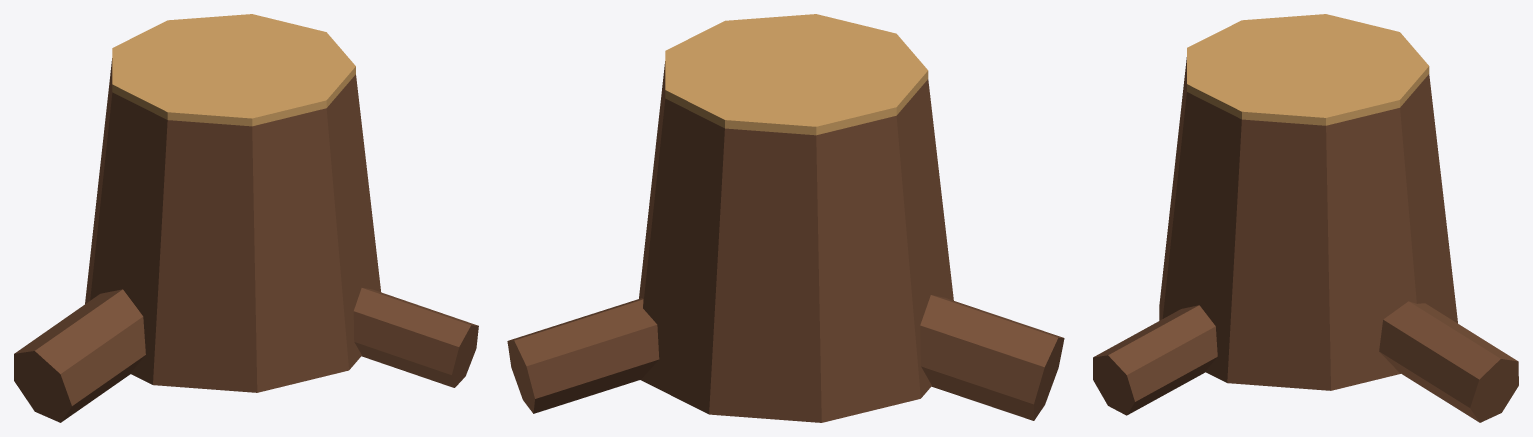
File: stump_a.glb
The picture shows the model from 3 angles, left to right: view 1: azimuth 30°, elevation 25°; view 2: azimuth 150°, elevation 25°; view 3: azimuth 270°, elevation 25°; orthographic projection. The views are drawn at different scales.
Visible parts, largest first — view 1: Stump, Cut, Root_A, Root_C; view 2: Stump, Cut, Root_A, Root_B; view 3: Stump, Cut, Root_B, Root_C.
Part boxes in pixels (<box>): Stump: <box>85,58,380,392</box>; Cut: <box>112,14,355,126</box>; Root_A: <box>14,289,145,422</box>; Root_C: <box>353,288,478,387</box>; Stump: <box>639,61,953,422</box>; Cut: <box>665,14,928,135</box>; Root_A: <box>920,295,1064,420</box>; Root_B: <box>507,298,659,413</box>; Stump: <box>1159,57,1457,390</box>; Cut: <box>1187,14,1429,125</box>; Root_B: <box>1379,301,1518,422</box>; Root_C: <box>1093,305,1217,415</box>.
Bounding box in the file's own units: 1.74 × 1.17 × 1.6.
